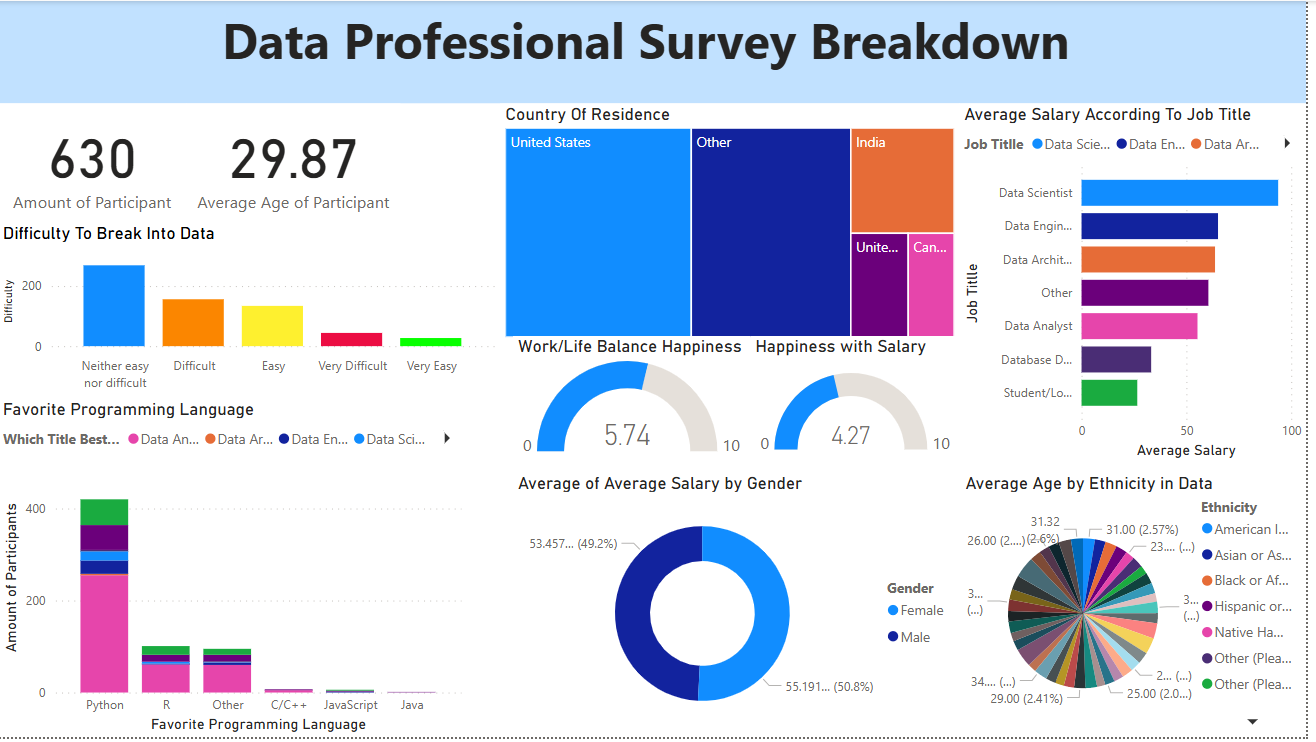

The page's visual inventory and layout, read from the dashboard file:
{"tool":"powerbi","page":{"name":"Page 1","canvas":[1280,720],"ordinal":0},"visuals":[{"type":"textbox","box":[0,0,1280.3,100.2],"z":0},{"type":"card","fields":{"Values":["Count(Data Professional Survey.Unique ID)"]},"box":[0,100.2,184.6,116.1],"z":1000},{"type":"card","fields":{"Values":["Avg(Data Professional Survey.Q10 - Current Age)"]},"box":[184.6,100.2,209,116.1],"z":2000},{"type":"barChart","title":"Average Salary According To Job Title","fields":{"Category":["Data Professional Survey.Q1 - Which Title Best Fits your Current Role?.1"],"Y":["Avg(Data Professional Survey.Average Salary)"],"Series":["Data Professional Survey.Q1 - Which Title Best Fits your Current Role?.1"]},"box":[940,100.2,339.8,352.1],"z":3000},{"type":"columnChart","title":"Favorite Programming Language","fields":{"Category":["Data Professional Survey.Q5 - Favorite Programming Language.1"],"Y":["CountNonNull(Data Professional Survey.Unique ID)"],"Series":["Data Professional Survey.Q1 - Which Title Best Fits your Current Role?.1"]},"box":[0,388.7,458.4,331.3],"z":4000},{"type":"treemap","title":"Country Of Residence","fields":{"Group":["Data Professional Survey.Q11 - Which Country do you live in?.1"],"Values":["CountNonNull(Data Professional Survey.Q11 - Which Country do you live in?.1)"]},"box":[491.8,99.9,448.8,233.6],"z":5000},{"type":"gauge","title":"Work/Life Balance Happiness","fields":{"Y":["Avg(Data Professional Survey.Q6 - How Happy are you in your Current Position with the following? (Work/Life Balance))"],"MinValue":["Min(Data Professional Survey.Q6 - How Happy are you in your Current Position with the following? (Work/Life Balance))"],"MaxValue":["Max(Data Professional Survey.Q6 - How Happy are you in your Current Position with the following? (Work/Life Balance))1"]},"box":[503.6,327.6,232.3,123.5],"z":6000},{"type":"gauge","title":"Happiness with Salary","fields":{"Y":["Avg(Data Professional Survey.Q6 - How Happy are you in your Current Position with the following? (Salary))"],"MinValue":["Min(Data Professional Survey.Q6 - How Happy are you in your Current Position with the following? (Salary))"],"MaxValue":["Max(Data Professional Survey.Q6 - How Happy are you in your Current Position with the following? (Salary))"]},"box":[735.9,327.6,205.4,133.2],"z":7000},{"type":"donutChart","fields":{"Category":["Data Professional Survey.Q9 - Male/Female?"],"Y":["Avg(Data Professional Survey.Average Salary)"]},"box":[503.6,460.9,436.7,257.5],"z":8000},{"type":"pieChart","title":"Average Age by Ethnicity in Data","fields":{"Y":["Avg(Data Professional Survey.Q10 - Current Age)"],"Series":["Data Professional Survey.Q13 - Ethnicity"]},"box":[941,461,339,257],"z":9000},{"type":"columnChart","title":"Difficulty To Break Into Data","fields":{"Category":["Data Professional Survey.Q7 - How difficult was it for you to break into Data?"],"Y":["CountNonNull(Data Professional Survey.Q7 - How difficult was it for you to break into Data?)"]},"box":[0,216.4,491.4,172.4],"z":10000}]}

Visuals, with their boxes in screenshot pixels (x1, y1, x2, y2), scaled from the page's 1280x720 canvas onto the 1316x742 screenshot:
textbox: 0, 0, 1315, 103
card - Count(Data Professional Survey.Unique ID): 0, 103, 190, 223
card - Avg(Data Professional Survey.Q10 - Current Age): 190, 103, 405, 223
"Average Salary According To Job Title" barChart: 966, 103, 1315, 466
"Favorite Programming Language" columnChart: 0, 401, 471, 741
"Country Of Residence" treemap: 506, 103, 967, 344
"Work/Life Balance Happiness" gauge: 518, 338, 757, 465
"Happiness with Salary" gauge: 757, 338, 968, 475
donutChart - Data Professional Survey.Q9 - Male/Female? x Avg(Data Professional Survey.Average Salary): 518, 475, 967, 740
"Average Age by Ethnicity in Data" pieChart: 967, 475, 1315, 740
"Difficulty To Break Into Data" columnChart: 0, 223, 505, 401
